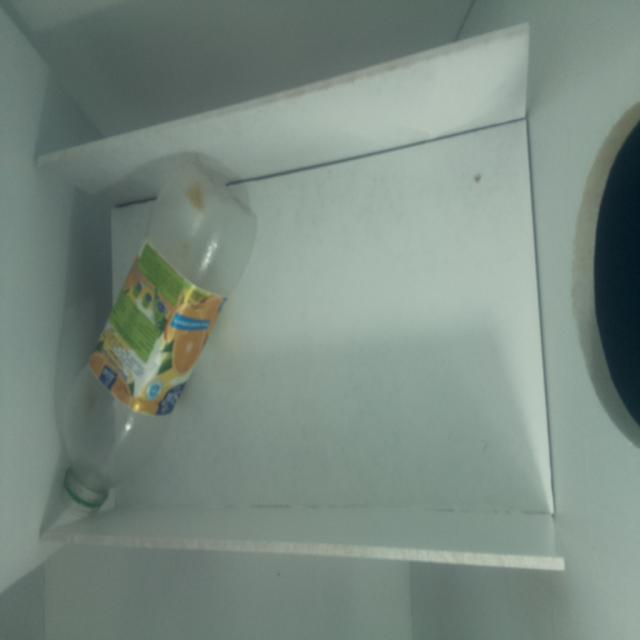Anorganik: (58, 146, 270, 509)
